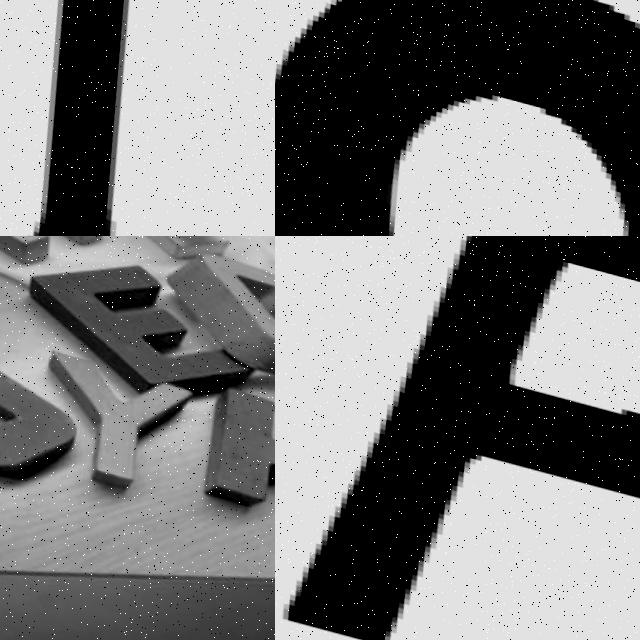1: (0, 0, 264, 236)
C: (150, 236, 275, 380)
E: (25, 240, 253, 391)
F: (275, 236, 640, 640)
J: (0, 315, 101, 496)
K: (171, 368, 275, 536)
O: (275, 0, 640, 236)
Y: (22, 338, 197, 501)
